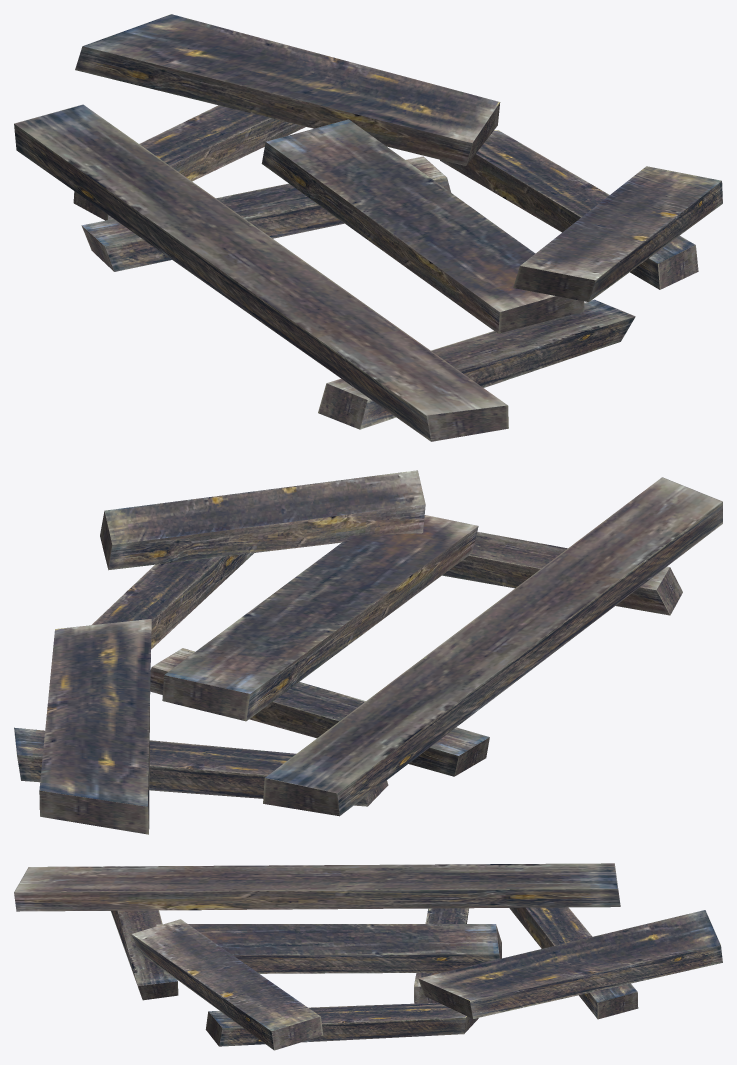
The model's file is m_way31.glb.
3 views of the same model, one above another, from view 1: azimuth 30°, elevation 25°; view 2: azimuth 150°, elevation 25°; view 3: azimuth 270°, elevation 25° (orthographic). The views are drawn at different scales.
Visible parts, largest first — view 1: m_way31-col; view 2: m_way31-col; view 3: m_way31-col.
Part boxes in pixels (box(x1,y1,x2,y2)): m_way31-col: box(14, 14, 722, 441); m_way31-col: box(14, 470, 722, 834); m_way31-col: box(14, 863, 722, 1050).
Bounding box in the file's own units: 2.12 × 0.3001 × 3.53.
Materials: 1 (1 with a texture image).
